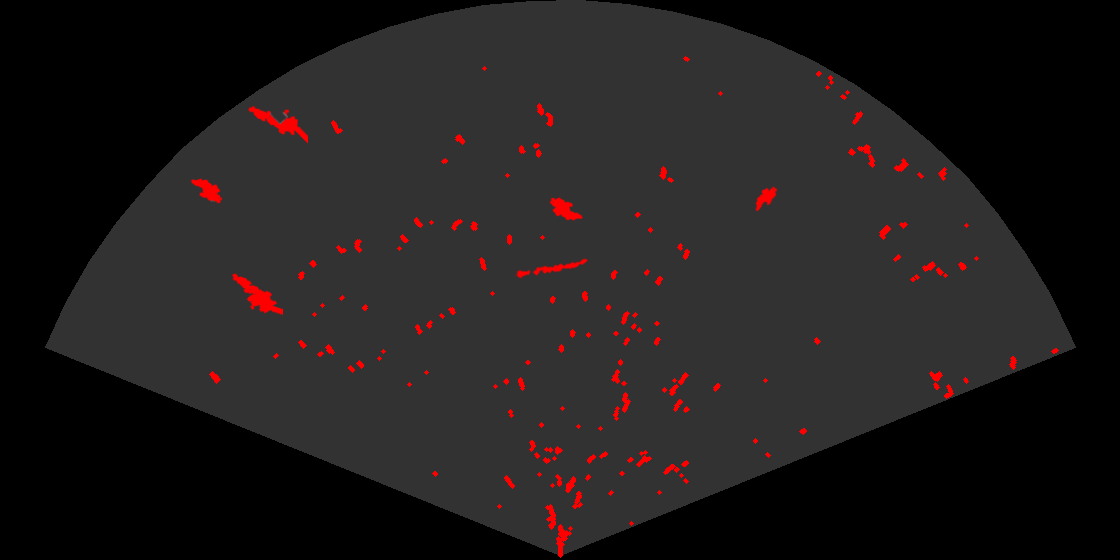AUV: (189, 177, 224, 205), (548, 196, 585, 222), (754, 185, 779, 213)
chain: (514, 257, 590, 280)
frogman: (247, 104, 308, 145), (230, 272, 283, 317)
